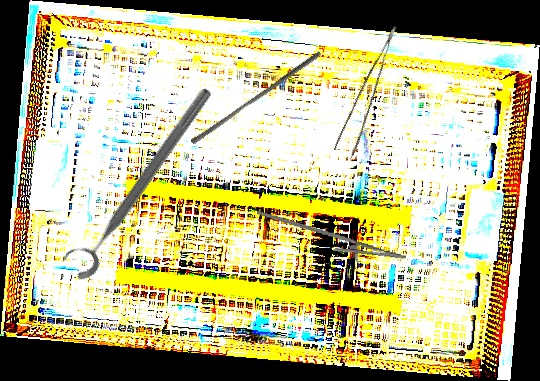Fixation Ring: (56, 76, 219, 285)
Needle Holder: (251, 209, 410, 272)
Pusher: (190, 46, 322, 149)
Tissue Forceps: (327, 26, 418, 159)
